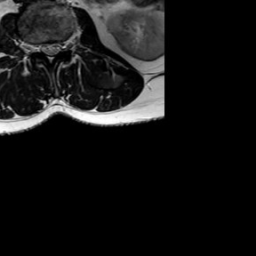CCS_normal: (47, 33, 54, 69)
LFS_normal: (62, 28, 70, 59)
LLS_normal: (54, 33, 62, 60)
RFS_normal: (30, 31, 39, 58)
RLS_normal: (39, 33, 47, 60)
